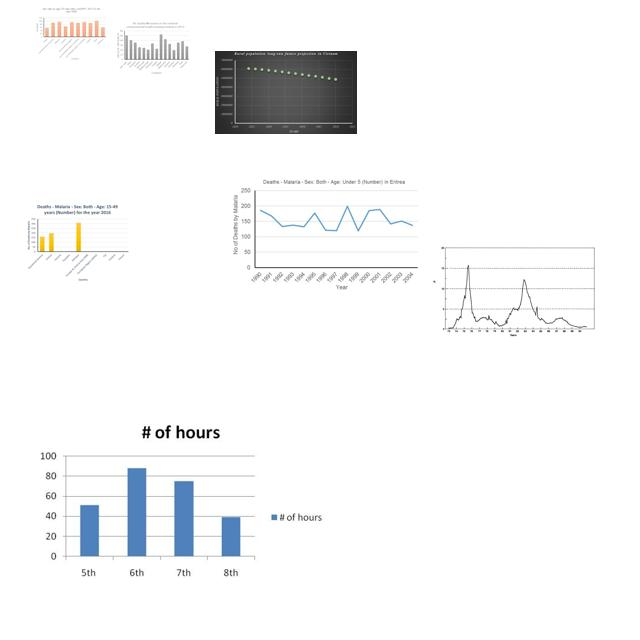Graph: (35, 419, 325, 585), (230, 176, 421, 292), (432, 243, 596, 338), (215, 51, 357, 134), (25, 203, 130, 282), (116, 21, 190, 75), (34, 7, 108, 60)
